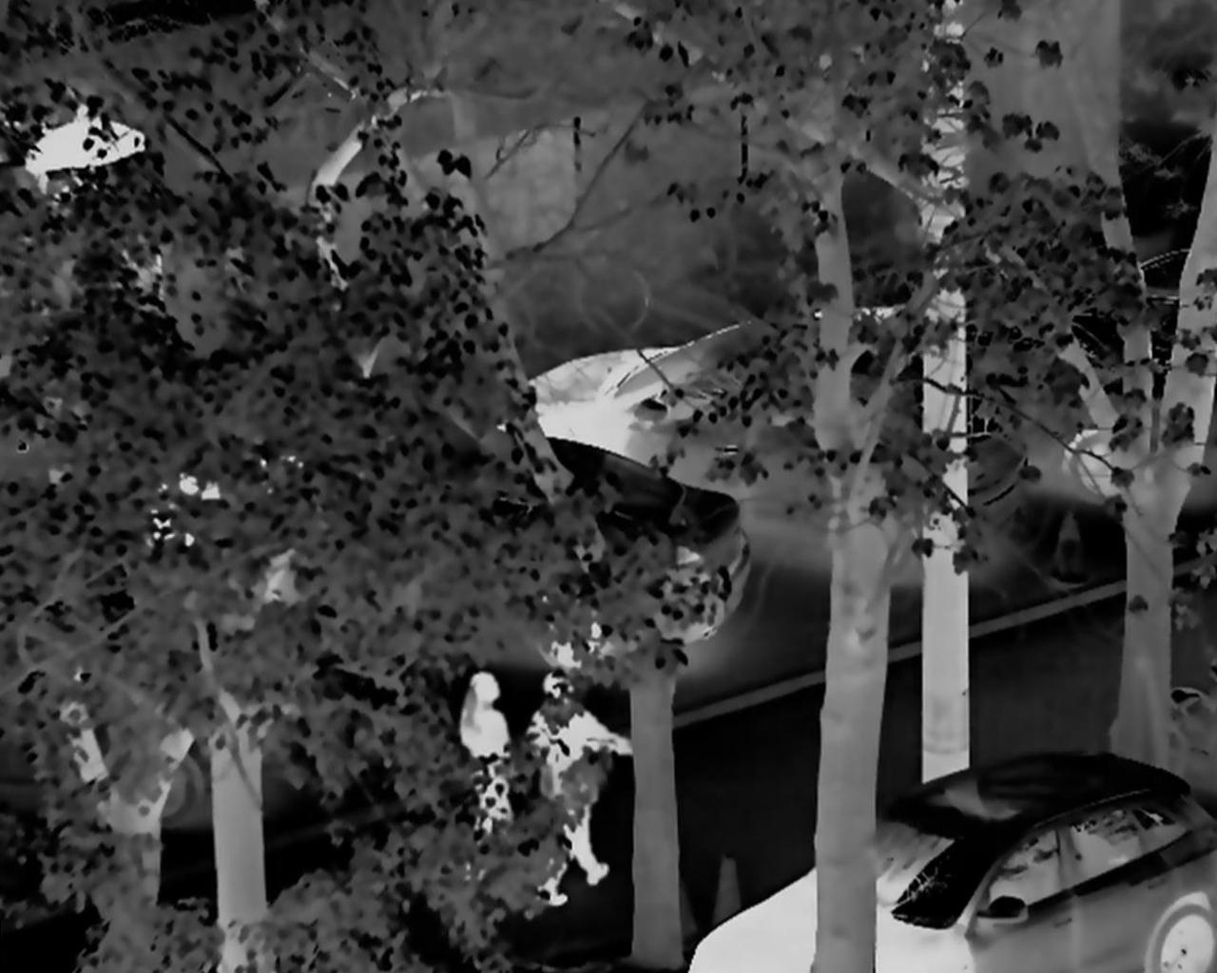person: (520, 661, 640, 907), (455, 672, 531, 926)
